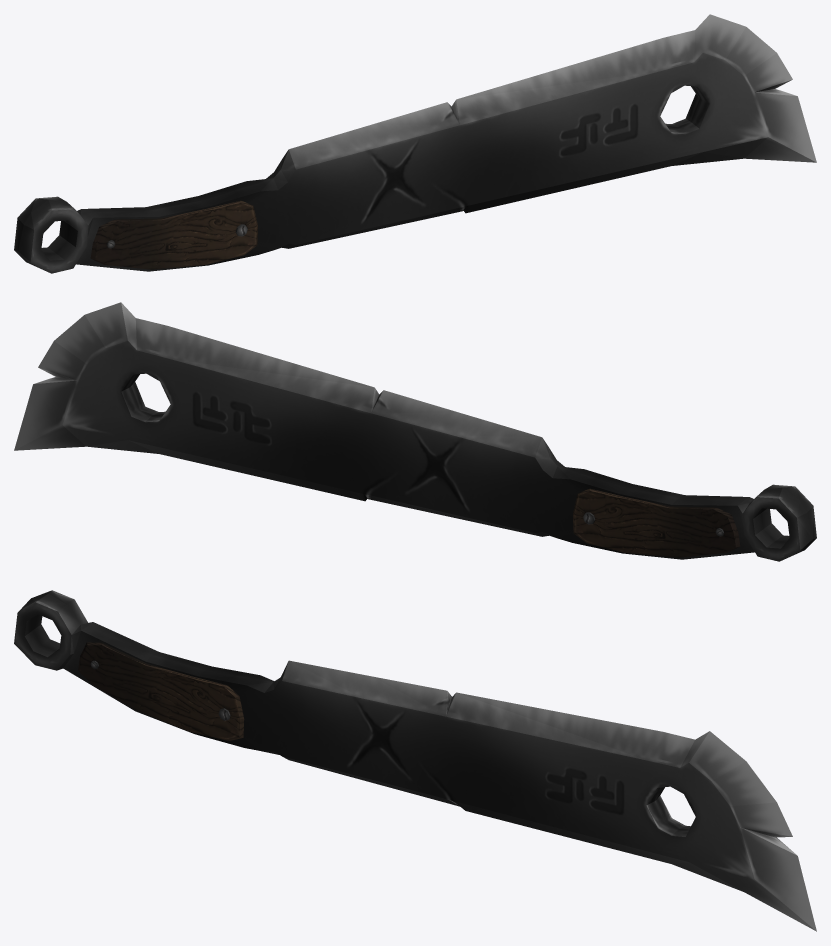
File: goblin_sword.glb
The picture shows the model from 3 angles, top to bottom: view 1: azimuth 30°, elevation 25°; view 2: azimuth 150°, elevation 25°; view 3: azimuth 330°, elevation 25°; orthographic projection.
Visible parts, largest first — view 1: goblin_sword_mesh; view 2: goblin_sword_mesh; view 3: goblin_sword_mesh.
Boxes of the visible parts, x1=… form: goblin_sword_mesh: x1=14, y1=14, x2=816, y2=273; goblin_sword_mesh: x1=14, y1=302, x2=816, y2=561; goblin_sword_mesh: x1=14, y1=590, x2=816, y2=931.
Size of the model in its own units: 0.7999 by 0.1671 by 0.0317.
Materials: 2 (2 with a texture image).
